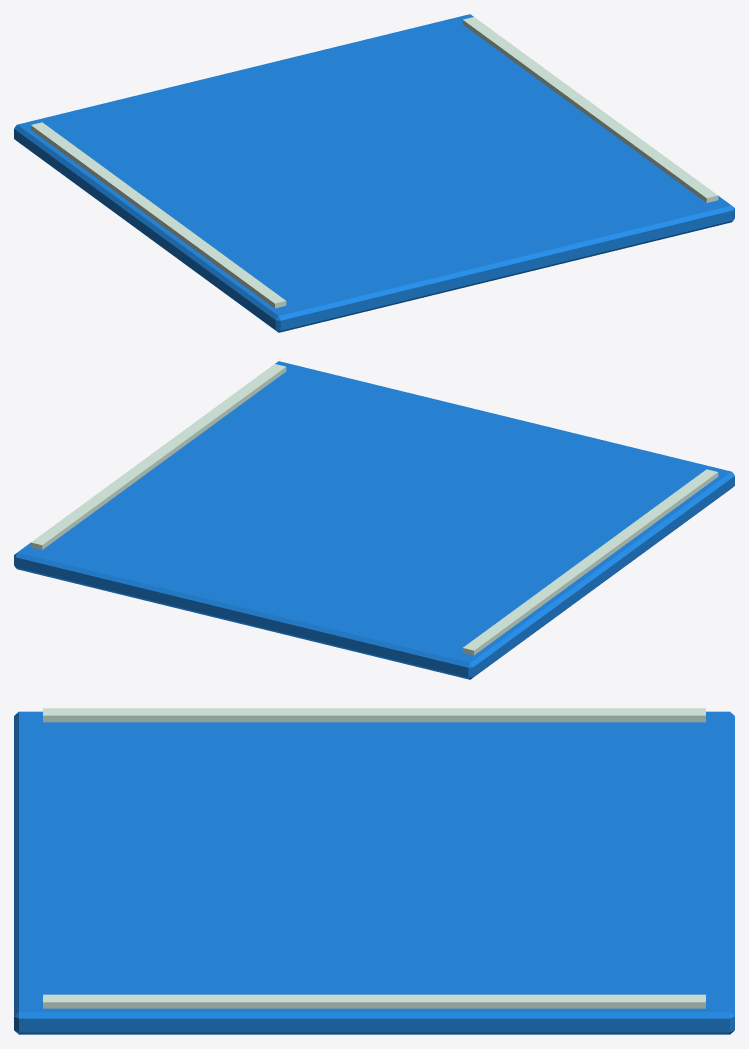
File: Tile_Sea_Expandable_v001.fbx
3 renders of one model, top to bottom at view 1: azimuth 30°, elevation 25°; view 2: azimuth 150°, elevation 25°; view 3: azimuth 270°, elevation 25°, orthographic. The views are drawn at different scales.
Parts seen in each view (by area): view 1: Tile, ExpansionRim, ExpansionRim.001; view 2: Tile, ExpansionRim, ExpansionRim.001; view 3: Tile, ExpansionRim, ExpansionRim.001.
Boxes of the visible parts, left/top/right/bottom form: Tile: left=14, top=14, right=734, bottom=332; ExpansionRim: left=462, top=17, right=718, bottom=202; ExpansionRim.001: left=30, top=122, right=286, bottom=308; Tile: left=14, top=361, right=734, bottom=679; ExpansionRim: left=30, top=364, right=286, bottom=549; ExpansionRim.001: left=462, top=469, right=718, bottom=655; Tile: left=14, top=711, right=734, bottom=1034; ExpansionRim: left=43, top=994, right=705, bottom=1008; ExpansionRim.001: left=43, top=708, right=705, bottom=722.
Bounding box in the file's own units: 100 × 4.5 × 100.
